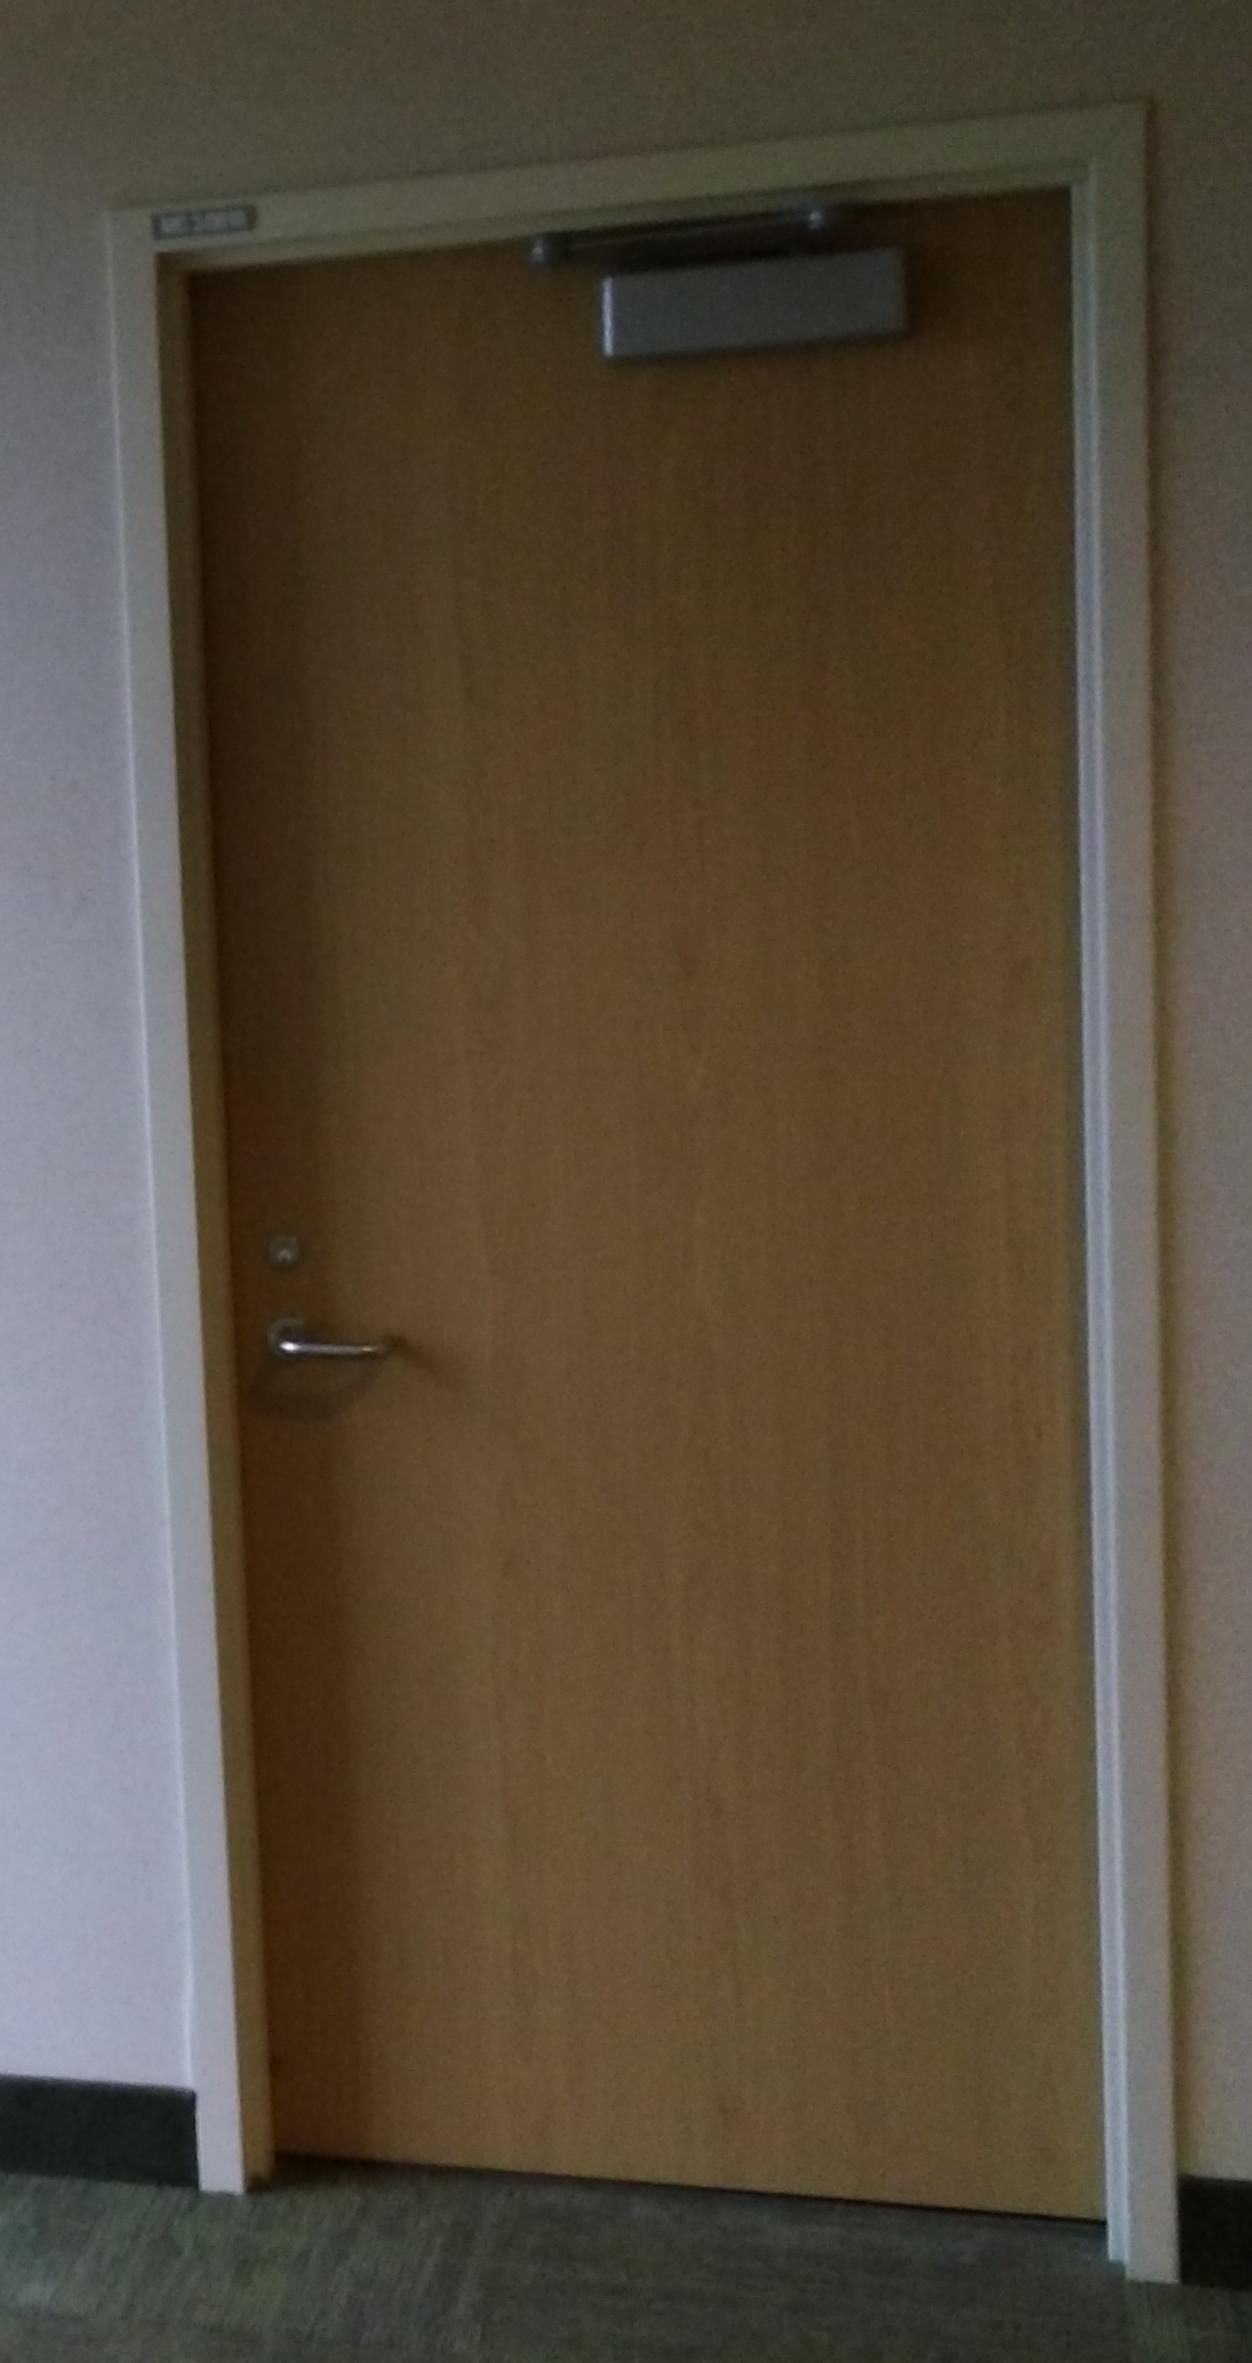door: (98, 102, 1179, 2290)
